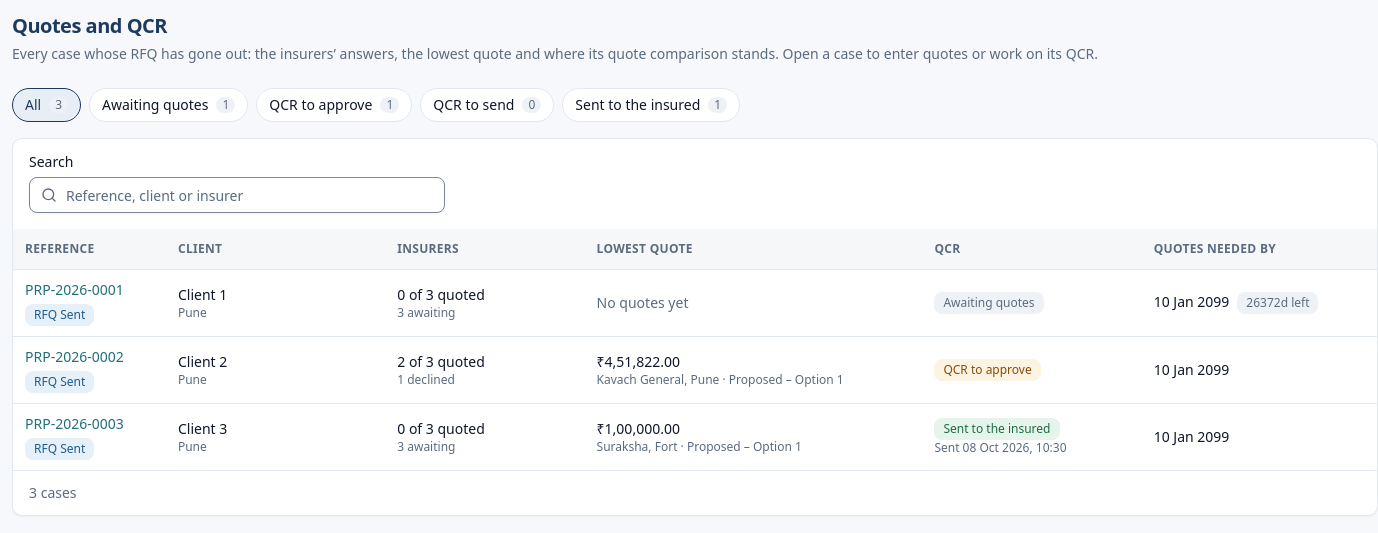
it: cross-case lists › Quotes and QCR: every case whose RFQ went out, by where its QCR stands
Expected: the text "₹4,51,822.00" is shown, 597,352 -> 680,370
Click the button with aria-label "QCR to approve (1)".
click(334, 105)  # box 256,88 -> 412,122
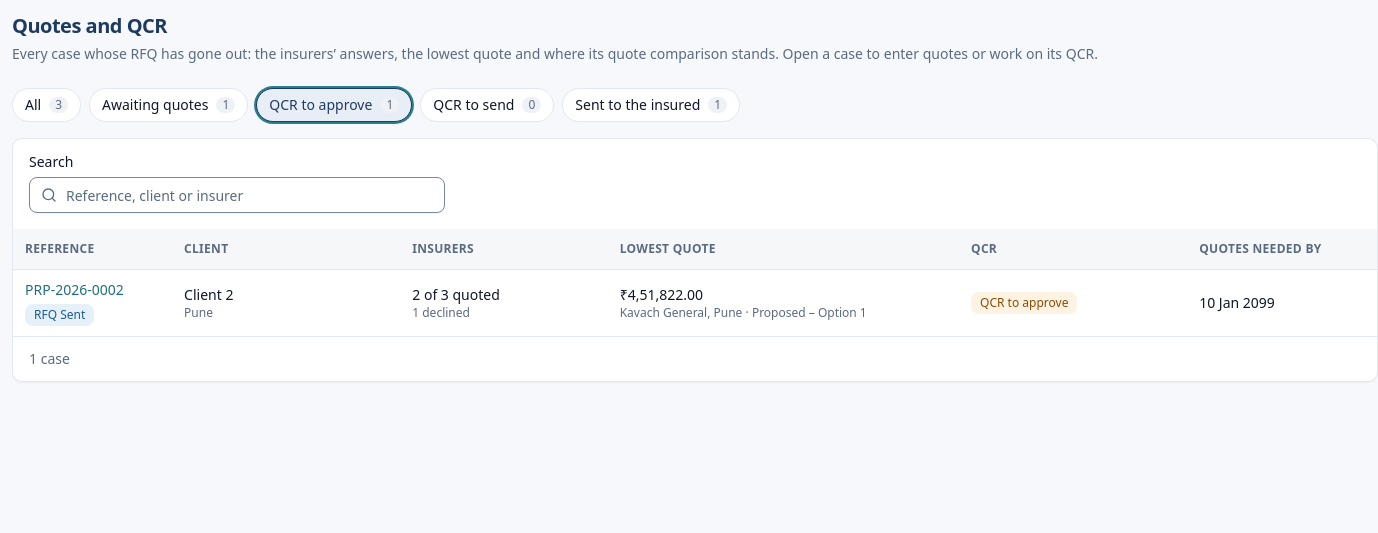
Expected: the number of links is 1, 25,280 -> 124,298
